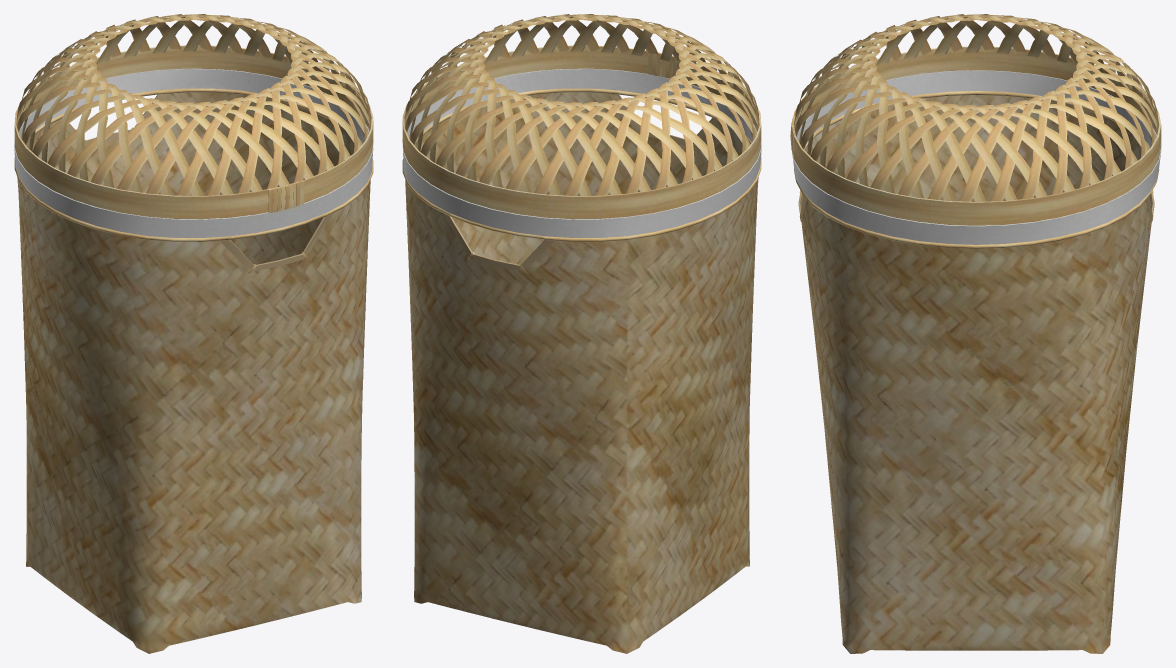
File: LB-BR-HAMPER-03.glb
3 views of the same model, side by side, from view 1: azimuth 30°, elevation 25°; view 2: azimuth 150°, elevation 25°; view 3: azimuth 270°, elevation 25° (orthographic). The views are drawn at different scales.
Parts seen in each view (by area): view 1: Mesh_0; view 2: Mesh_0; view 3: Mesh_0.
Boxes of the visible parts, box(x1,y1,x2,y2) form: Mesh_0: box(14, 14, 373, 653); Mesh_0: box(402, 14, 761, 653); Mesh_0: box(790, 14, 1161, 653).
Size of the model in its own units: 0.4 by 0.6402 by 0.4.
Materials: 1 (1 with a texture image).
